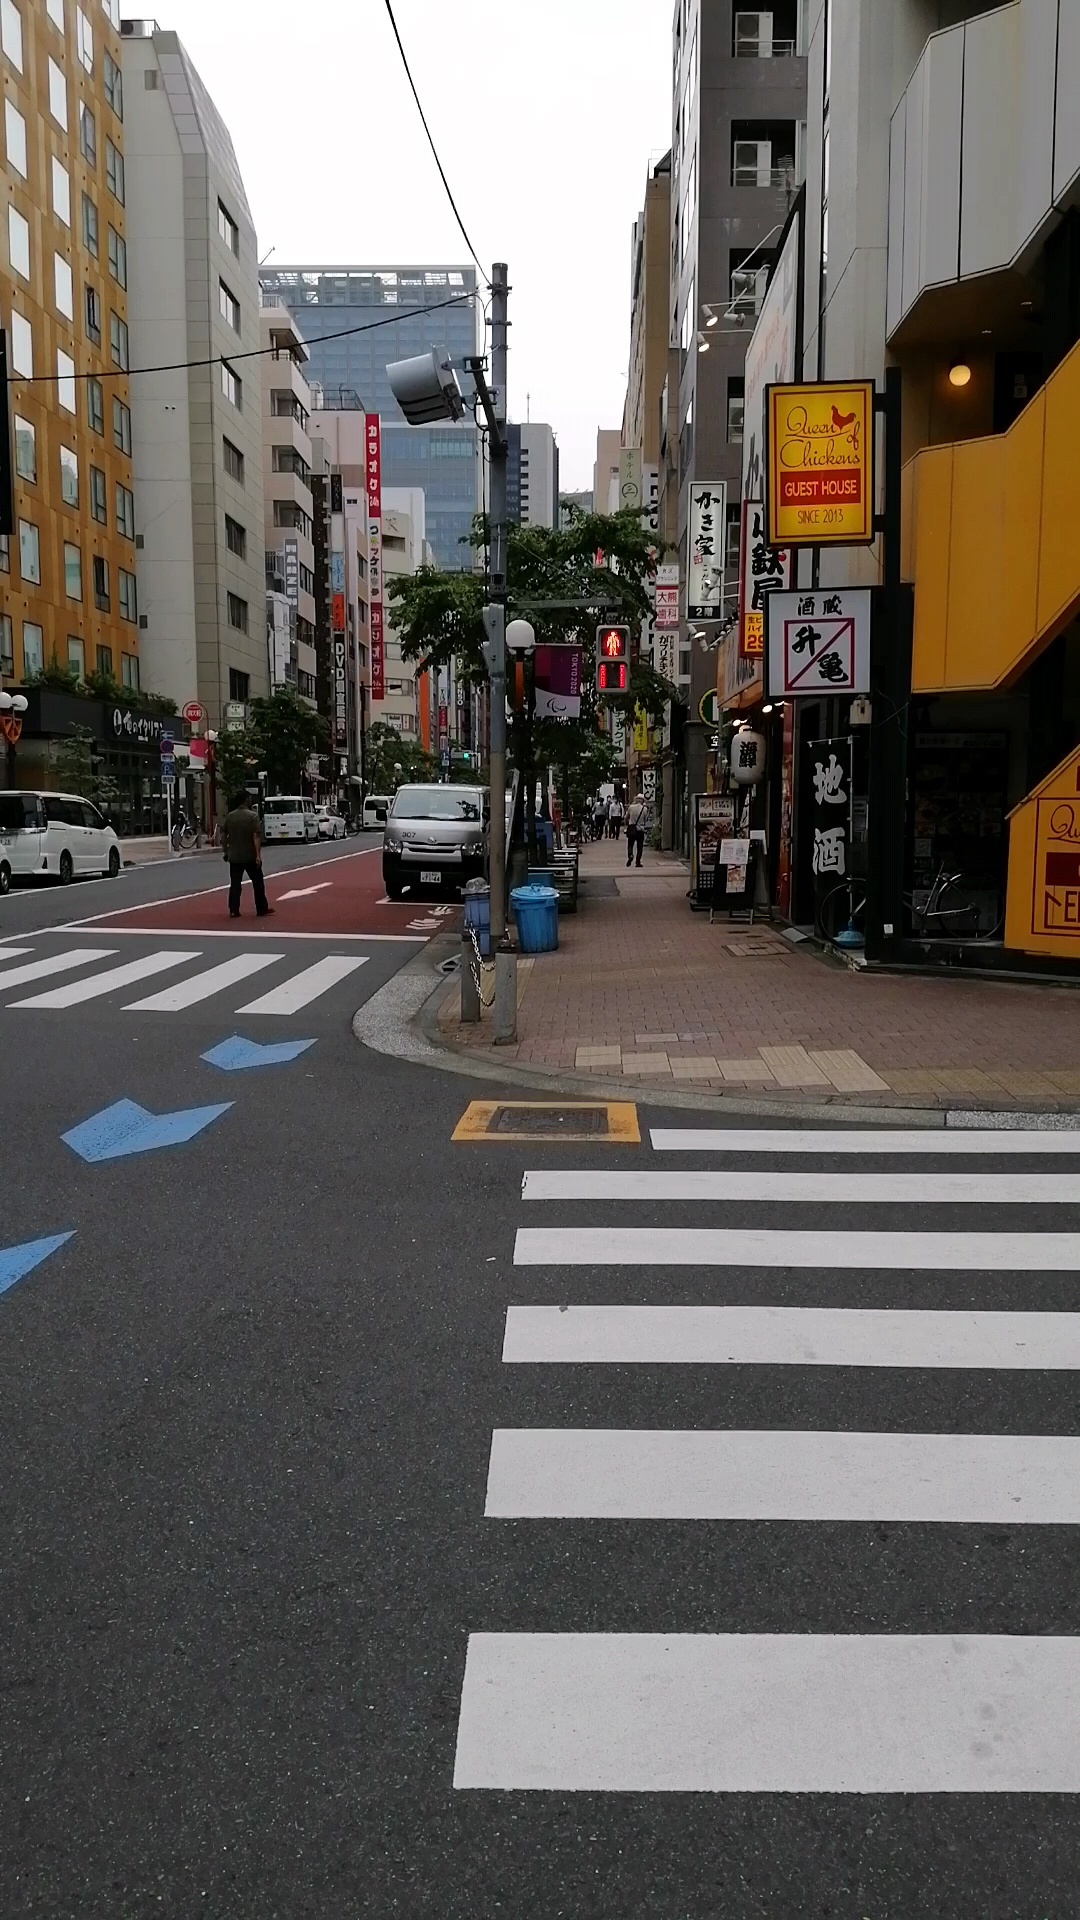red: (596, 622, 630, 694)
